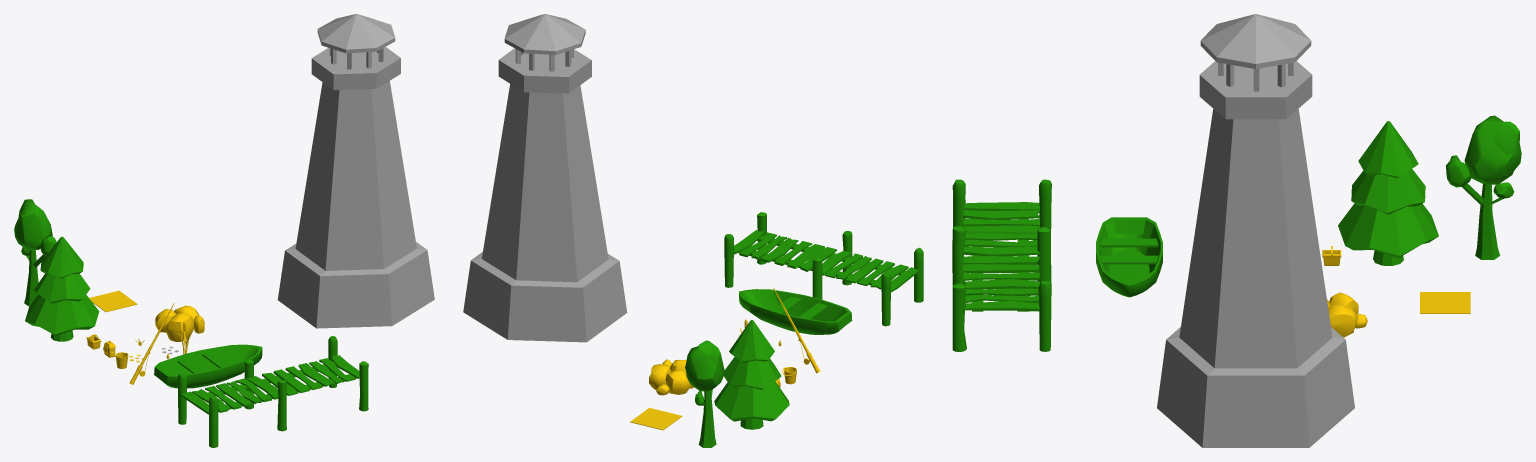
Rendered from Assets.fbx.
3 renders of one model, left to right at view 1: azimuth 30°, elevation 25°; view 2: azimuth 150°, elevation 25°; view 3: azimuth 270°, elevation 25°, orthographic. The views are drawn at different scales.
Visible parts, largest first — view 1: lighthouse, ier, christmas_tree, boat, tree, ros, picnic_blanket; view 2: lighthouse, ier, christmas_tree, boat, tree, ros, picnic_blanket; view 3: lighthouse, ier, christmas_tree, tree, boat, ros, picnic_blanket.
Boxes of the visible parts, left/top/right/bottom form: lighthouse: left=277, top=14, right=434, bottom=328; ier: left=177, top=336, right=368, bottom=447; christmas_tree: left=25, top=236, right=99, bottom=341; boat: left=154, top=344, right=262, bottom=388; tree: left=14, top=199, right=56, bottom=306; ros: left=155, top=305, right=204, bottom=341; picnic_blanket: left=89, top=290, right=137, bottom=312; lighthouse: left=463, top=14, right=627, bottom=342; ier: left=724, top=212, right=923, bottom=326; christmas_tree: left=714, top=320, right=789, bottom=429; boat: left=739, top=289, right=852, bottom=334; tree: left=685, top=340, right=724, bottom=447; ros: left=649, top=359, right=693, bottom=395; picnic_blanket: left=630, top=408, right=682, bottom=430; lighthouse: left=1157, top=14, right=1354, bottom=447; ier: left=952, top=179, right=1051, bottom=351; christmas_tree: left=1338, top=121, right=1438, bottom=265; tree: left=1446, top=115, right=1521, bottom=259; boat: left=1096, top=217, right=1162, bottom=297; ros: left=1327, top=292, right=1367, bottom=337; picnic_blanket: left=1420, top=292, right=1470, bottom=313.
Size of the model in its own units: 0.2121 by 0.1822 by 0.225.
